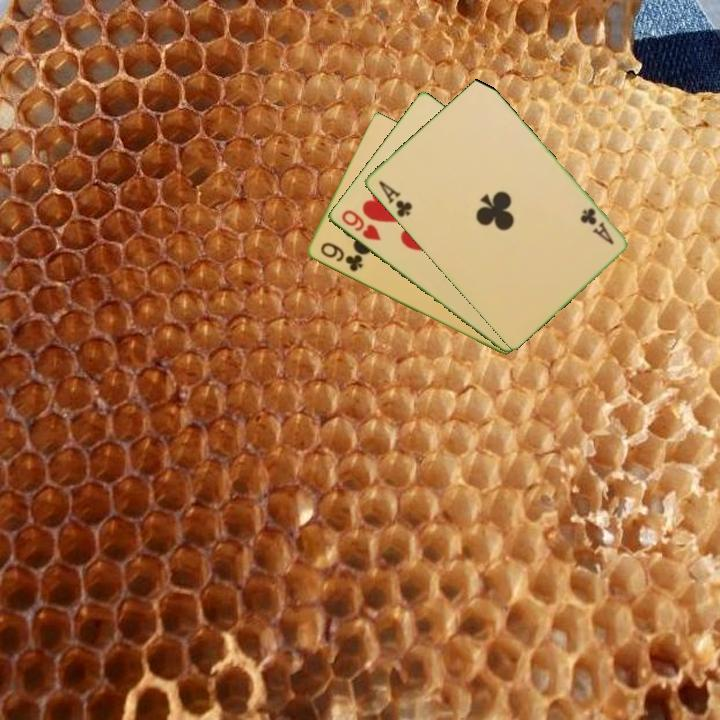9c: (316, 239, 366, 275)
9h: (337, 206, 384, 244)
Ac: (374, 177, 415, 220), (576, 204, 616, 248)
